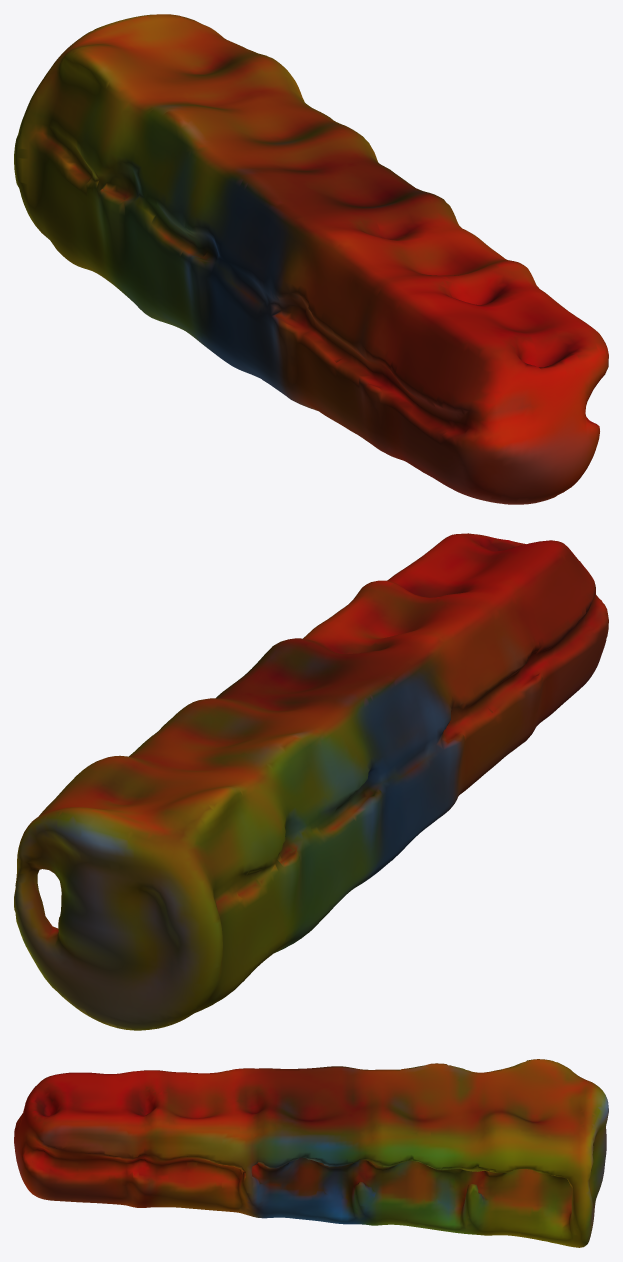
Rendered from stucking_cups.glb.
The picture shows the model from 3 angles, top to bottom: view 1: azimuth 30°, elevation 25°; view 2: azimuth 150°, elevation 25°; view 3: azimuth 270°, elevation 25°; orthographic projection. The views are drawn at different scales.
Bounding box in the file's own units: 0.277 × 0.2898 × 0.9995.
